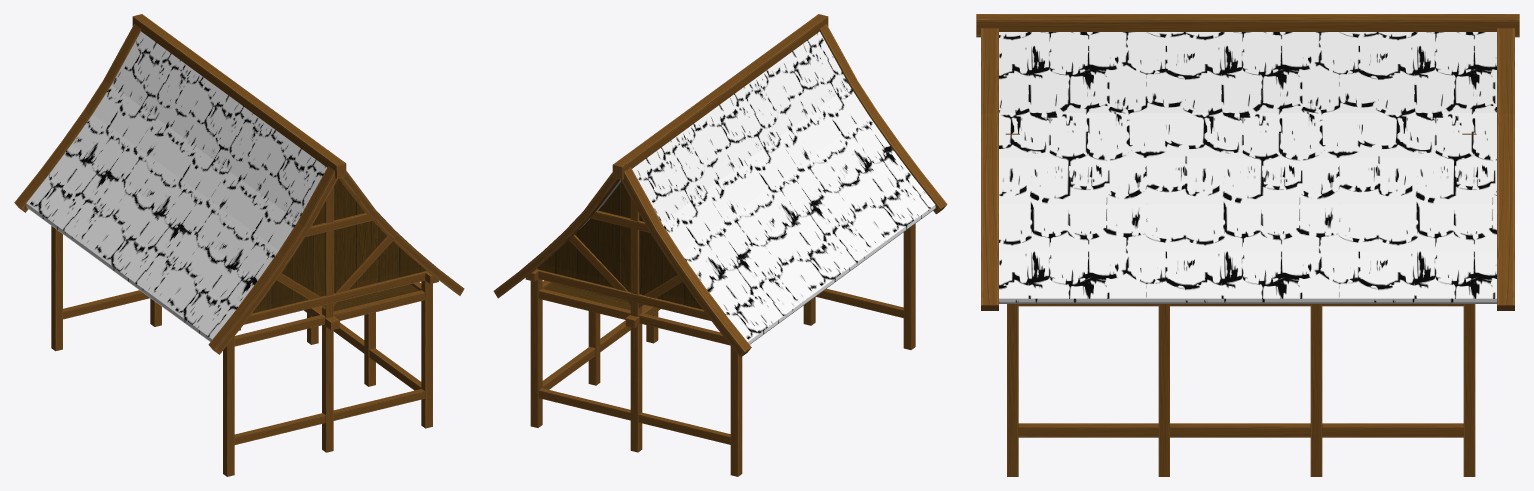
File: SM_Barn.fbx
The picture shows the model from 3 angles, left to right: view 1: azimuth 30°, elevation 25°; view 2: azimuth 150°, elevation 25°; view 3: azimuth 270°, elevation 25°; orthographic projection. The views are drawn at different scales.
Parts seen in each view (by area): view 1: SM_Barn_LOD0; view 2: SM_Barn_LOD0; view 3: SM_Barn_LOD0.
Part boxes in pixels (x1,y1,x2,y2): SM_Barn_LOD0: (14,14,464,476); SM_Barn_LOD0: (493,14,947,476); SM_Barn_LOD0: (976,14,1519,476).
Size of the model in its own units: 504 by 714 by 570.
